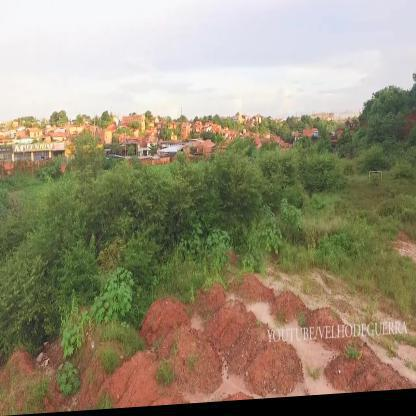agua: (245, 304, 274, 329), (219, 373, 244, 402)
